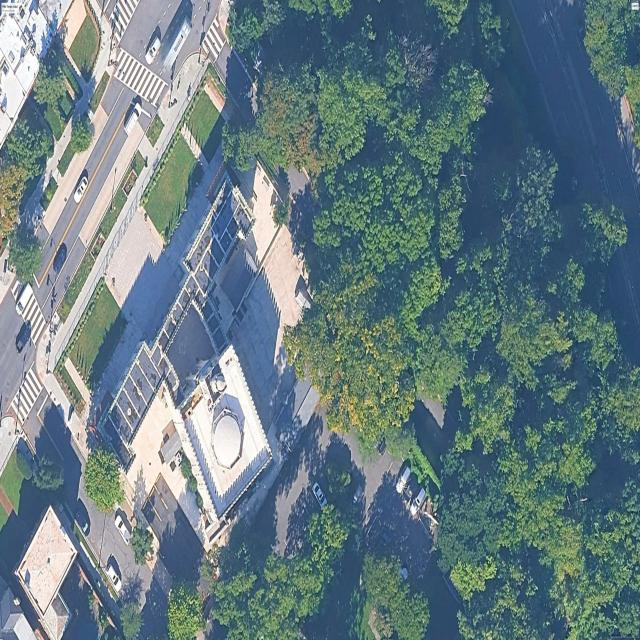mosque: (99, 174, 272, 523)
